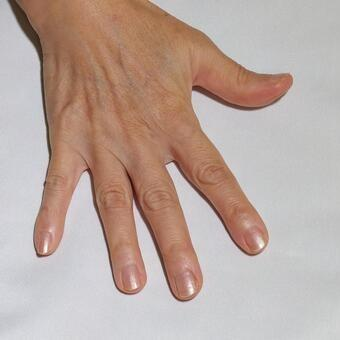pa-: (32, 24, 293, 303)
